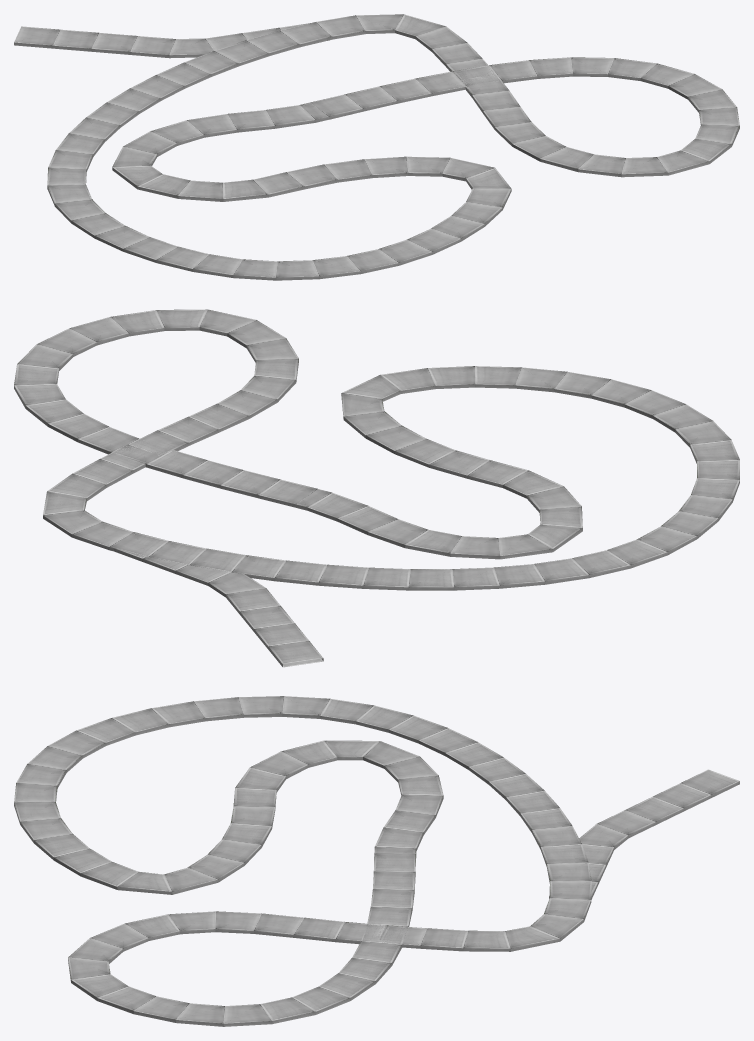
The model's file is enviroment.dae.
3 views of the same model, one above another, from view 1: azimuth 30°, elevation 25°; view 2: azimuth 150°, elevation 25°; view 3: azimuth 270°, elevation 25° (orthographic). The views are drawn at different scales.
Parts seen in each view (by area): view 1: Cube, Cube_001; view 2: Cube, Cube_001; view 3: Cube, Cube_001.
Boxes of the visible parts, <box> form: Cube: <box>47,14,739,280</box>; Cube_001: <box>14,23,329,58</box>; Cube: <box>14,309,739,590</box>; Cube_001: <box>114,532,323,667</box>; Cube: <box>14,696,591,1026</box>; Cube_001: <box>549,769,739,899</box>.
Size of what is drawn, in the model's own units: 22.6 by 21.16 by 0.1032.
